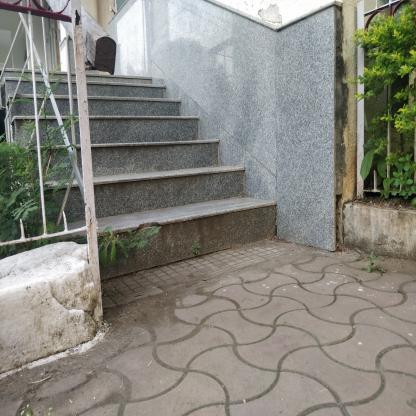stairs: (98, 162, 252, 302)
